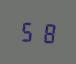eight: (37, 19, 54, 45)
five: (19, 18, 36, 43)
